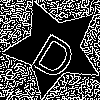D: (29, 23, 85, 82)
